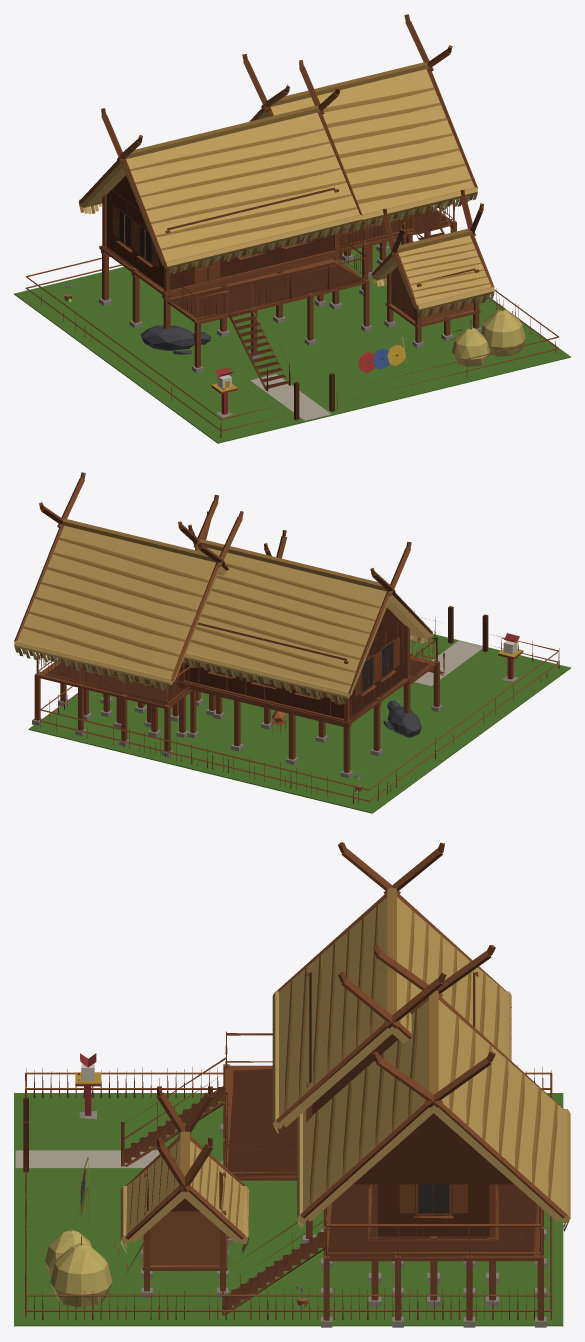
Rendered from home_4.glb.
3 views of the same model, one above another, from view 1: azimuth 30°, elevation 25°; view 2: azimuth 150°, elevation 25°; view 3: azimuth 270°, elevation 25° (orthographic). The views are drawn at different scales.
Visible parts, largest first — view 1: body, windows; view 2: body, windows; view 3: body, windows.
Part boxes in pixels (<box>): body: <box>14,14,570,443</box>; windows: <box>119,210,304,262</box>; body: <box>14,472,570,813</box>; windows: <box>212,641,393,694</box>; body: <box>14,842,570,1327</box>; windows: <box>418,1184,449,1213</box>.
Size of the model in its own units: 16.63 by 9.29 by 16.12.
